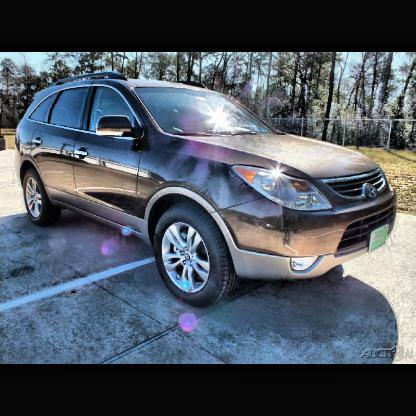Hyundai Veracruz SUV 2012: (16, 74, 396, 311)
